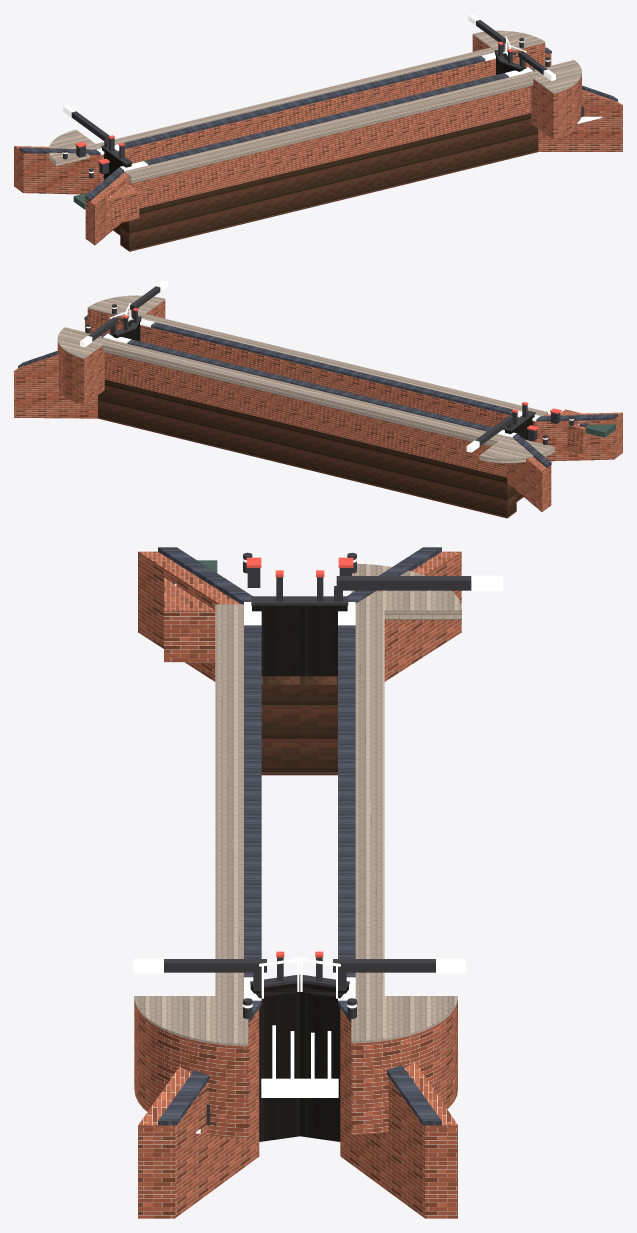
The model's file is lock-44.glb.
3 views of the same model, one above another, from view 1: azimuth 30°, elevation 25°; view 2: azimuth 150°, elevation 25°; view 3: azimuth 270°, elevation 25° (orthographic). The views are drawn at different scales.
Visible parts, largest first — view 1: Chamber, ChamberWet, Edge, Coping.001, TopGateCap, Coping, TopGate; view 2: Chamber, ChamberWet, Edge, Coping.001, TopGateCap, Coping, TopGate; view 3: Chamber, Edge, Coping.001, TopGate, TopGateCap, ChamberWet, Coping, Leak.
Boxes of the visible parts, x1=… form: Chamber: x1=14, y1=35, x2=622, y2=245; ChamberWet: x1=113, y1=113, x2=538, y2=251; Edge: x1=49, y1=30, x2=581, y2=183; Coping.001: x1=19, y1=47, x2=617, y2=201; TopGateCap: x1=63, y1=20, x2=584, y2=178; Coping: x1=62, y1=14, x2=555, y2=173; TopGate: x1=102, y1=53, x2=526, y2=179; Chamber: x1=14, y1=300, x2=622, y2=511; ChamberWet: x1=98, y1=379, x2=523, y2=518; Edge: x1=57, y1=295, x2=554, y2=463; Coping.001: x1=18, y1=315, x2=617, y2=467; TopGateCap: x1=86, y1=286, x2=573, y2=446; Coping: x1=80, y1=280, x2=573, y2=452; TopGate: x1=110, y1=319, x2=534, y2=441; Chamber: x1=134, y1=551, x2=461, y2=1218; Edge: x1=134, y1=563, x2=461, y2=1046; Coping.001: x1=158, y1=547, x2=441, y2=1125; TopGate: x1=250, y1=605, x2=348, y2=1141; TopGateCap: x1=164, y1=552, x2=471, y2=1125; ChamberWet: x1=261, y1=676, x2=337, y2=775; Coping: x1=133, y1=558, x2=503, y2=1008; Leak: x1=175, y1=583, x2=338, y2=1133.
Bounding box in the file's own units: 33.27 × 5.75 × 10.05.
Materials: 11 (8 with a texture image).
